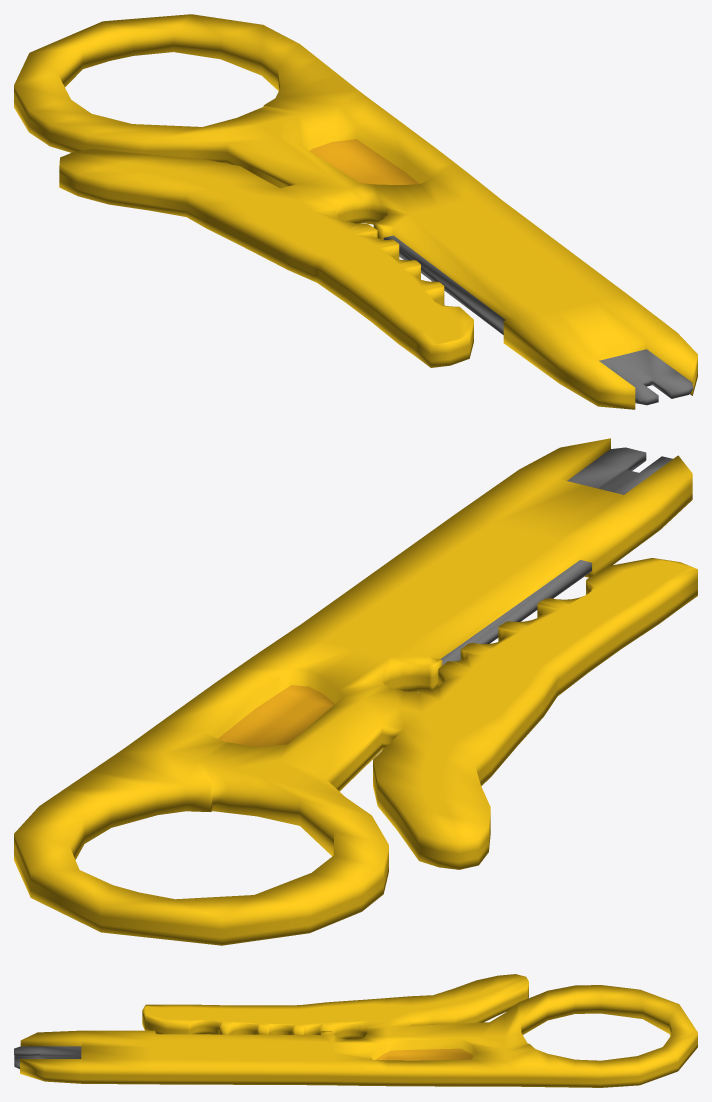
The model's file is wire stripper no gap.fbx.
3 renders of one model, top to bottom at view 1: azimuth 30°, elevation 25°; view 2: azimuth 150°, elevation 25°; view 3: azimuth 270°, elevation 25°, orthographic. The views are drawn at different scales.
Parts seen in each view (by area): view 1: Plane; view 2: Plane; view 3: Plane.
Boxes of the visible parts, left/top/right/bottom form: Plane: left=14, top=14, right=697, bottom=409; Plane: left=14, top=438, right=697, bottom=945; Plane: left=14, top=974, right=697, bottom=1087.
Bounding box in the file's own units: 125 × 8.86 × 364.
